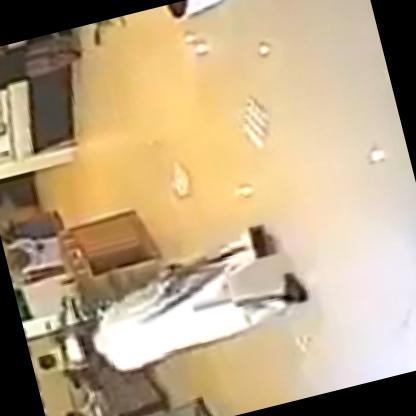Human Body: (38, 212, 316, 397)
